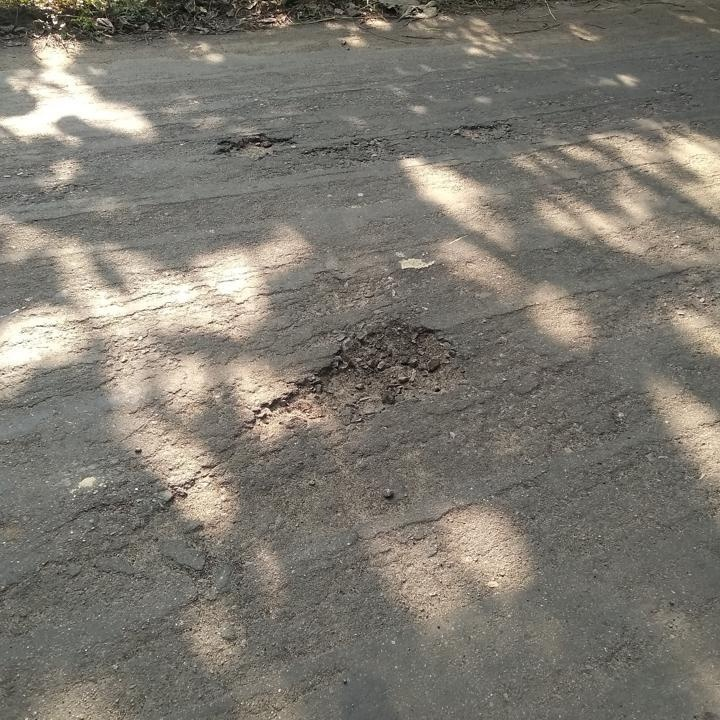pothole: (244, 319, 469, 441), (211, 130, 298, 164), (448, 118, 520, 143)
